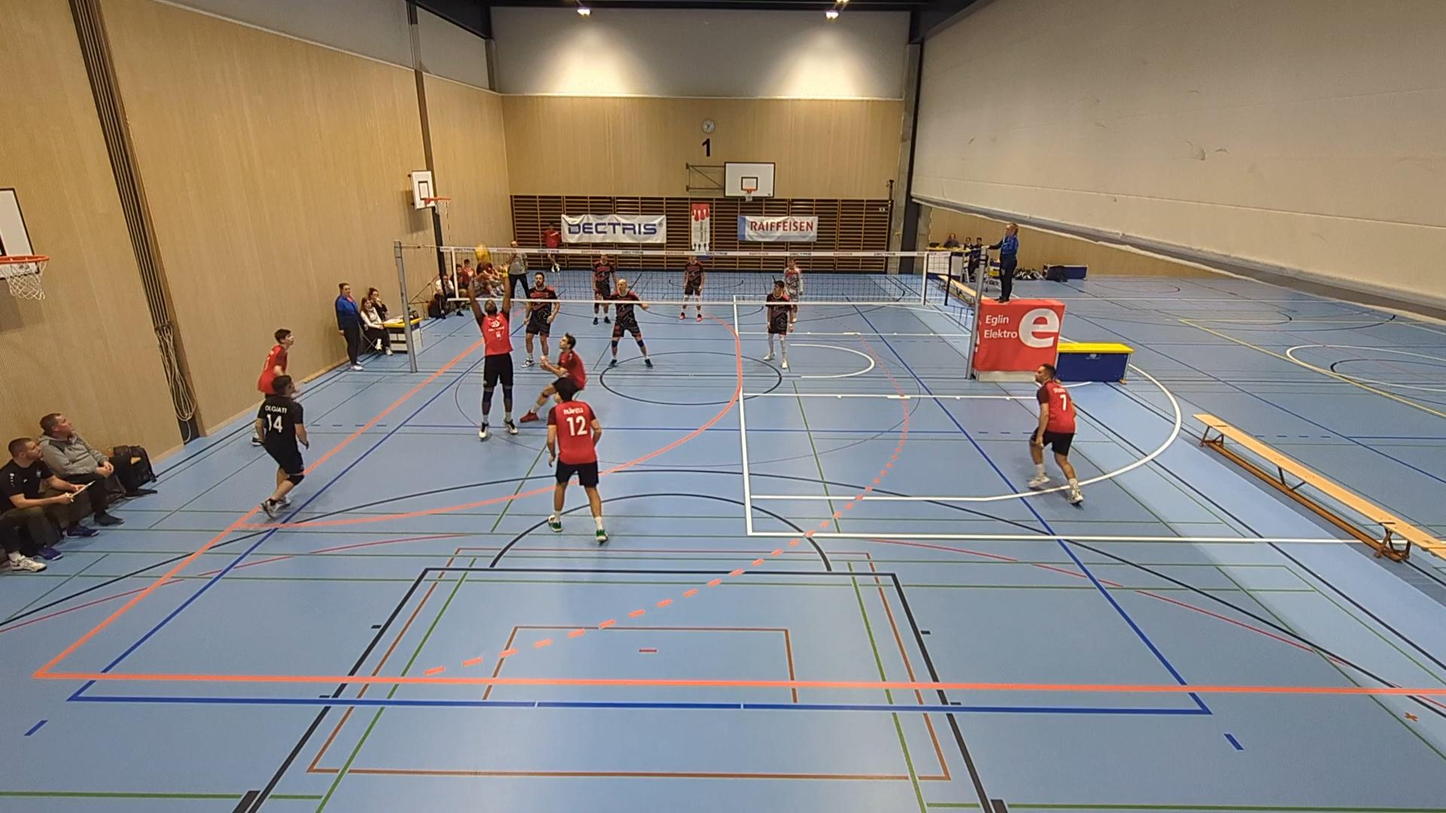Player: (547, 378, 608, 544), (1028, 364, 1083, 504), (255, 375, 308, 518), (609, 278, 652, 367), (524, 272, 560, 366), (541, 333, 586, 391), (764, 281, 792, 369), (258, 329, 293, 397), (679, 256, 705, 321), (593, 254, 615, 324), (782, 257, 803, 323)
Set: (469, 280, 521, 441)
ball: (471, 244, 491, 253)
